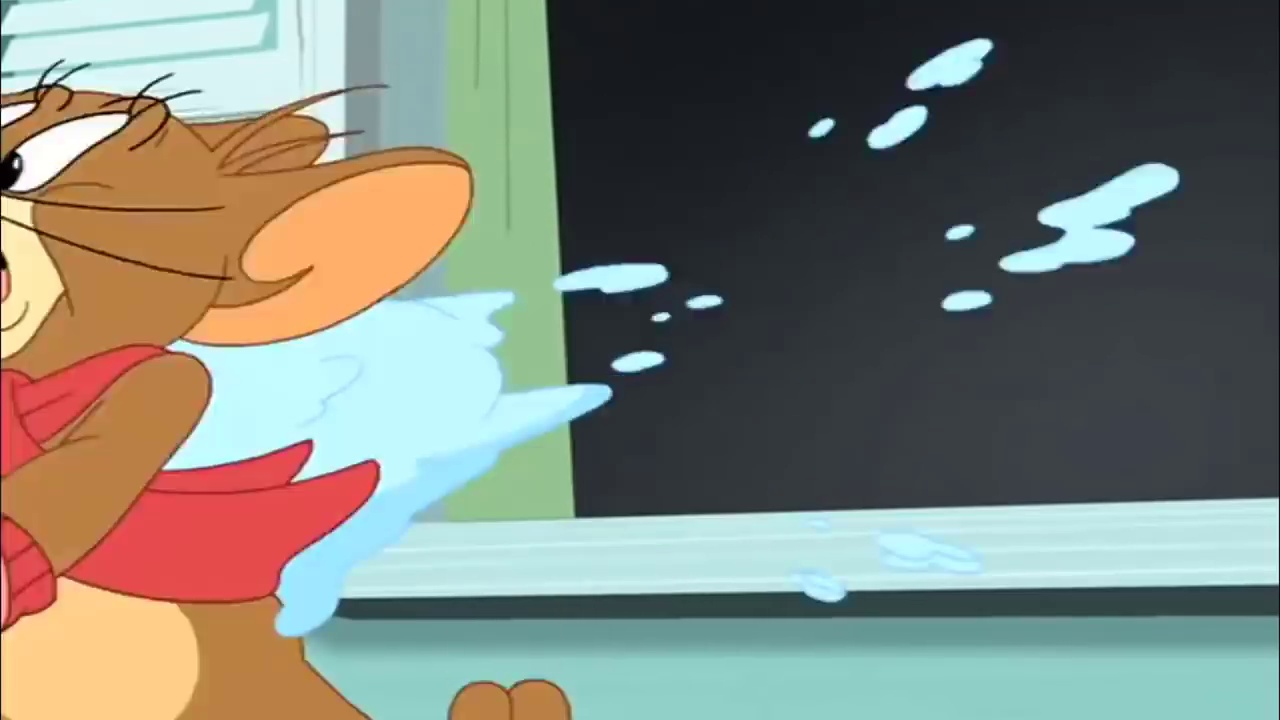face: (2, 86, 164, 362)
